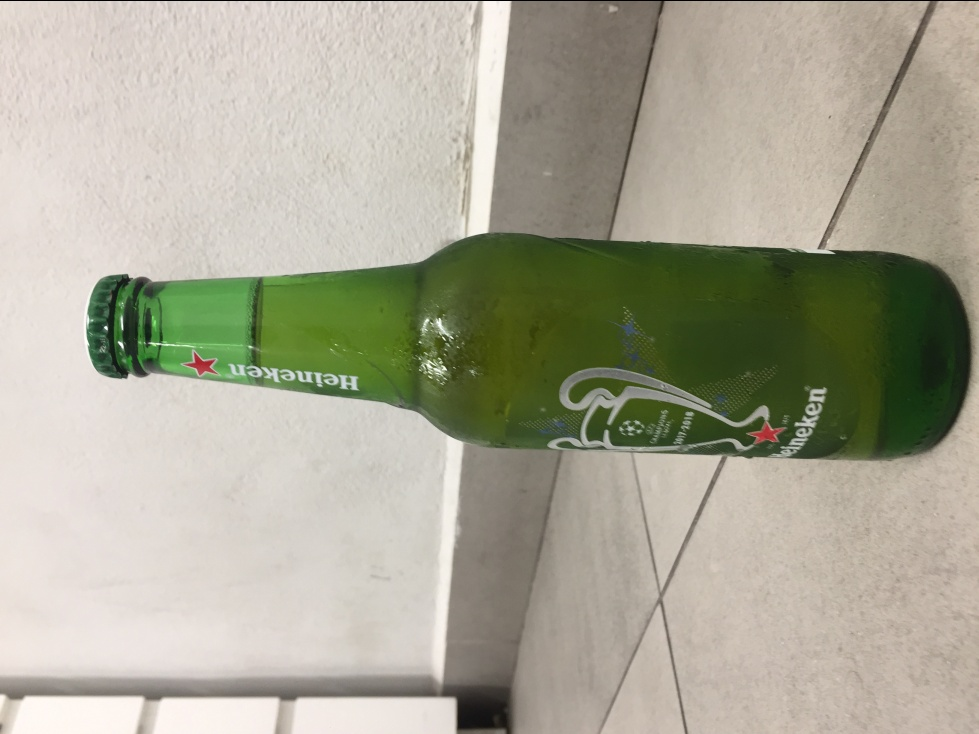heineken: (87, 231, 974, 463)
